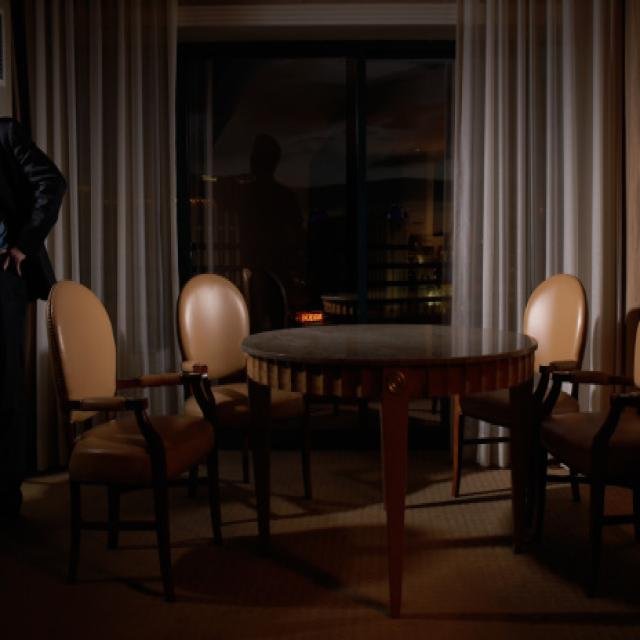People: (0, 67, 92, 593)
Table: (247, 275, 541, 640)
chair: (45, 259, 200, 596), (540, 272, 640, 600), (175, 228, 258, 520), (522, 247, 594, 476)
